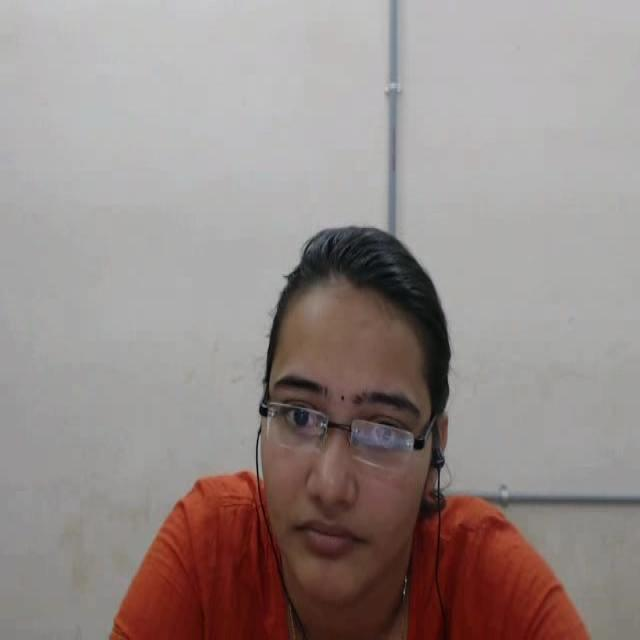Engaged: (244, 177, 480, 639)
